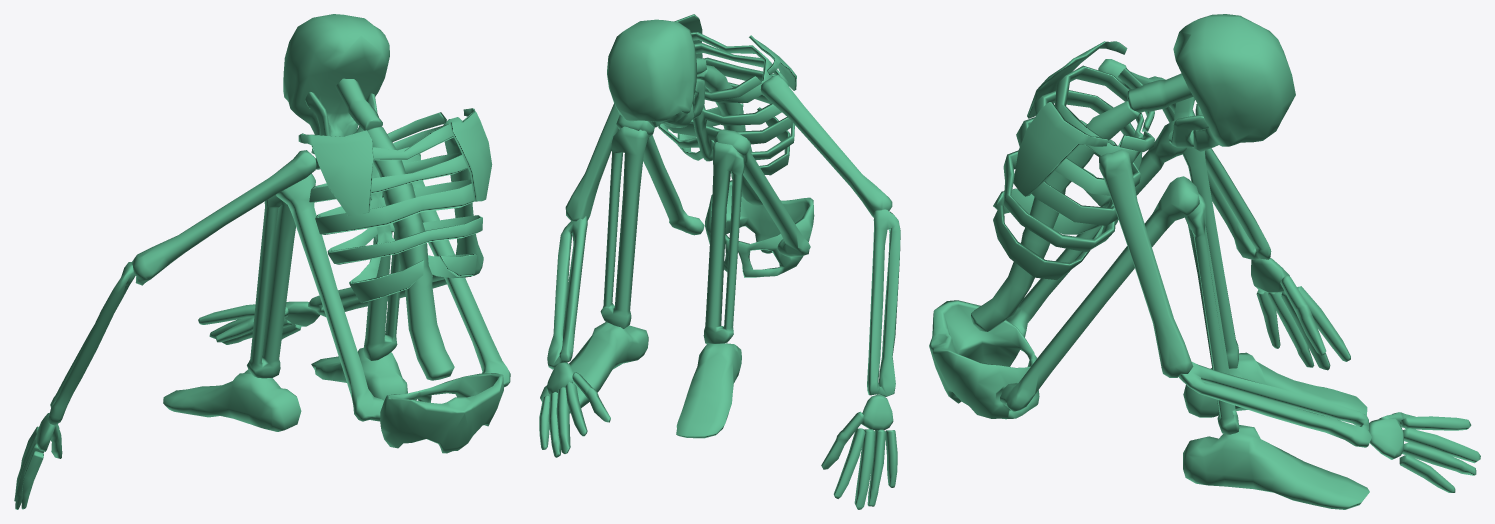
File: Skeleton_01_Lod0.fbx
3 views of the same model, side by side, from view 1: azimuth 30°, elevation 25°; view 2: azimuth 150°, elevation 25°; view 3: azimuth 270°, elevation 25° (orthographic). The views are drawn at different scales.
Visible parts, largest first — view 1: Skeleton_01_Lod0; view 2: Skeleton_01_Lod0; view 3: Skeleton_01_Lod0.
Part boxes in pixels (x1,y1,x2,y2): Skeleton_01_Lod0: (14, 14, 510, 509); Skeleton_01_Lod0: (539, 14, 900, 509); Skeleton_01_Lod0: (929, 14, 1480, 509).
Size of the model in its own units: 70.08 by 72.38 by 72.66.
